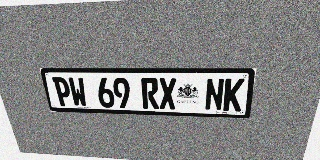6: (96, 77, 115, 108)
9: (112, 77, 131, 108)
K: (223, 78, 245, 111)
N: (204, 78, 225, 111)
P: (52, 77, 73, 107)
R: (141, 78, 159, 109)
W: (68, 77, 88, 107)
X: (159, 78, 176, 110)
